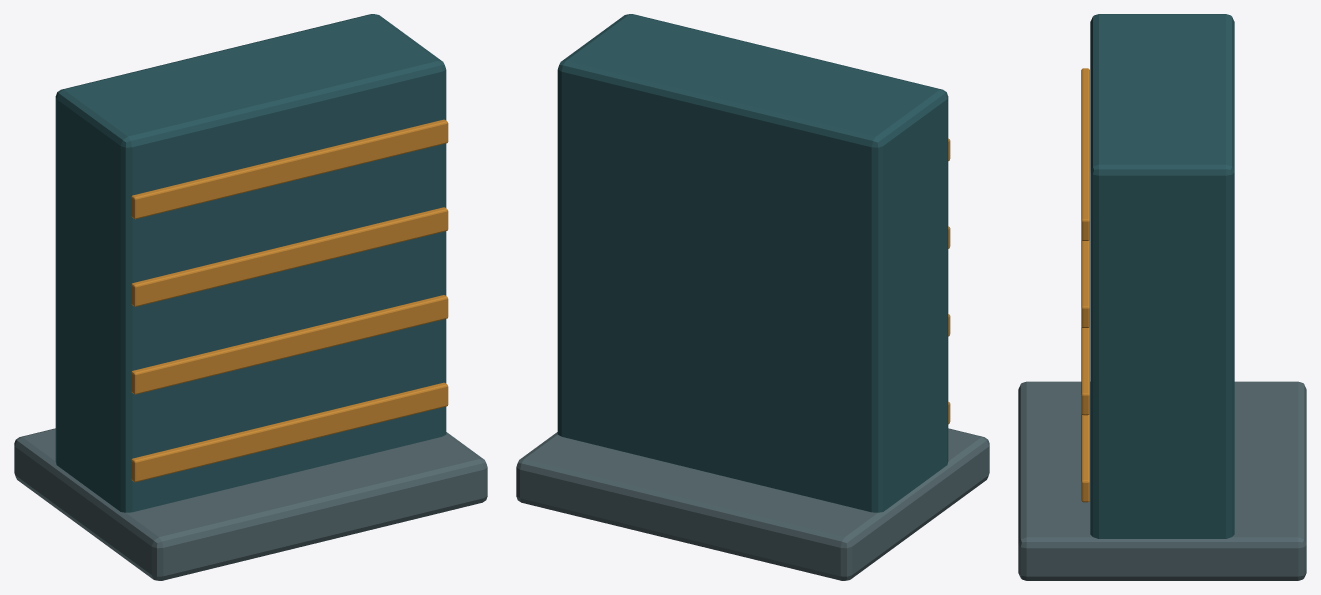
The model's file is moving_gate.glb.
3 views of the same model, side by side, from view 1: azimuth 30°, elevation 25°; view 2: azimuth 150°, elevation 25°; view 3: azimuth 270°, elevation 25° (orthographic).
Parts seen in each view (by area): view 1: moving_gate; view 2: moving_gate; view 3: moving_gate.
Boxes of the visible parts, bbox=[...] form: moving_gate: bbox=[14, 14, 487, 580]; moving_gate: bbox=[516, 14, 989, 580]; moving_gate: bbox=[1018, 14, 1306, 580].
Bounding box in the file's own units: 1.6 × 1.9 × 1.2.
